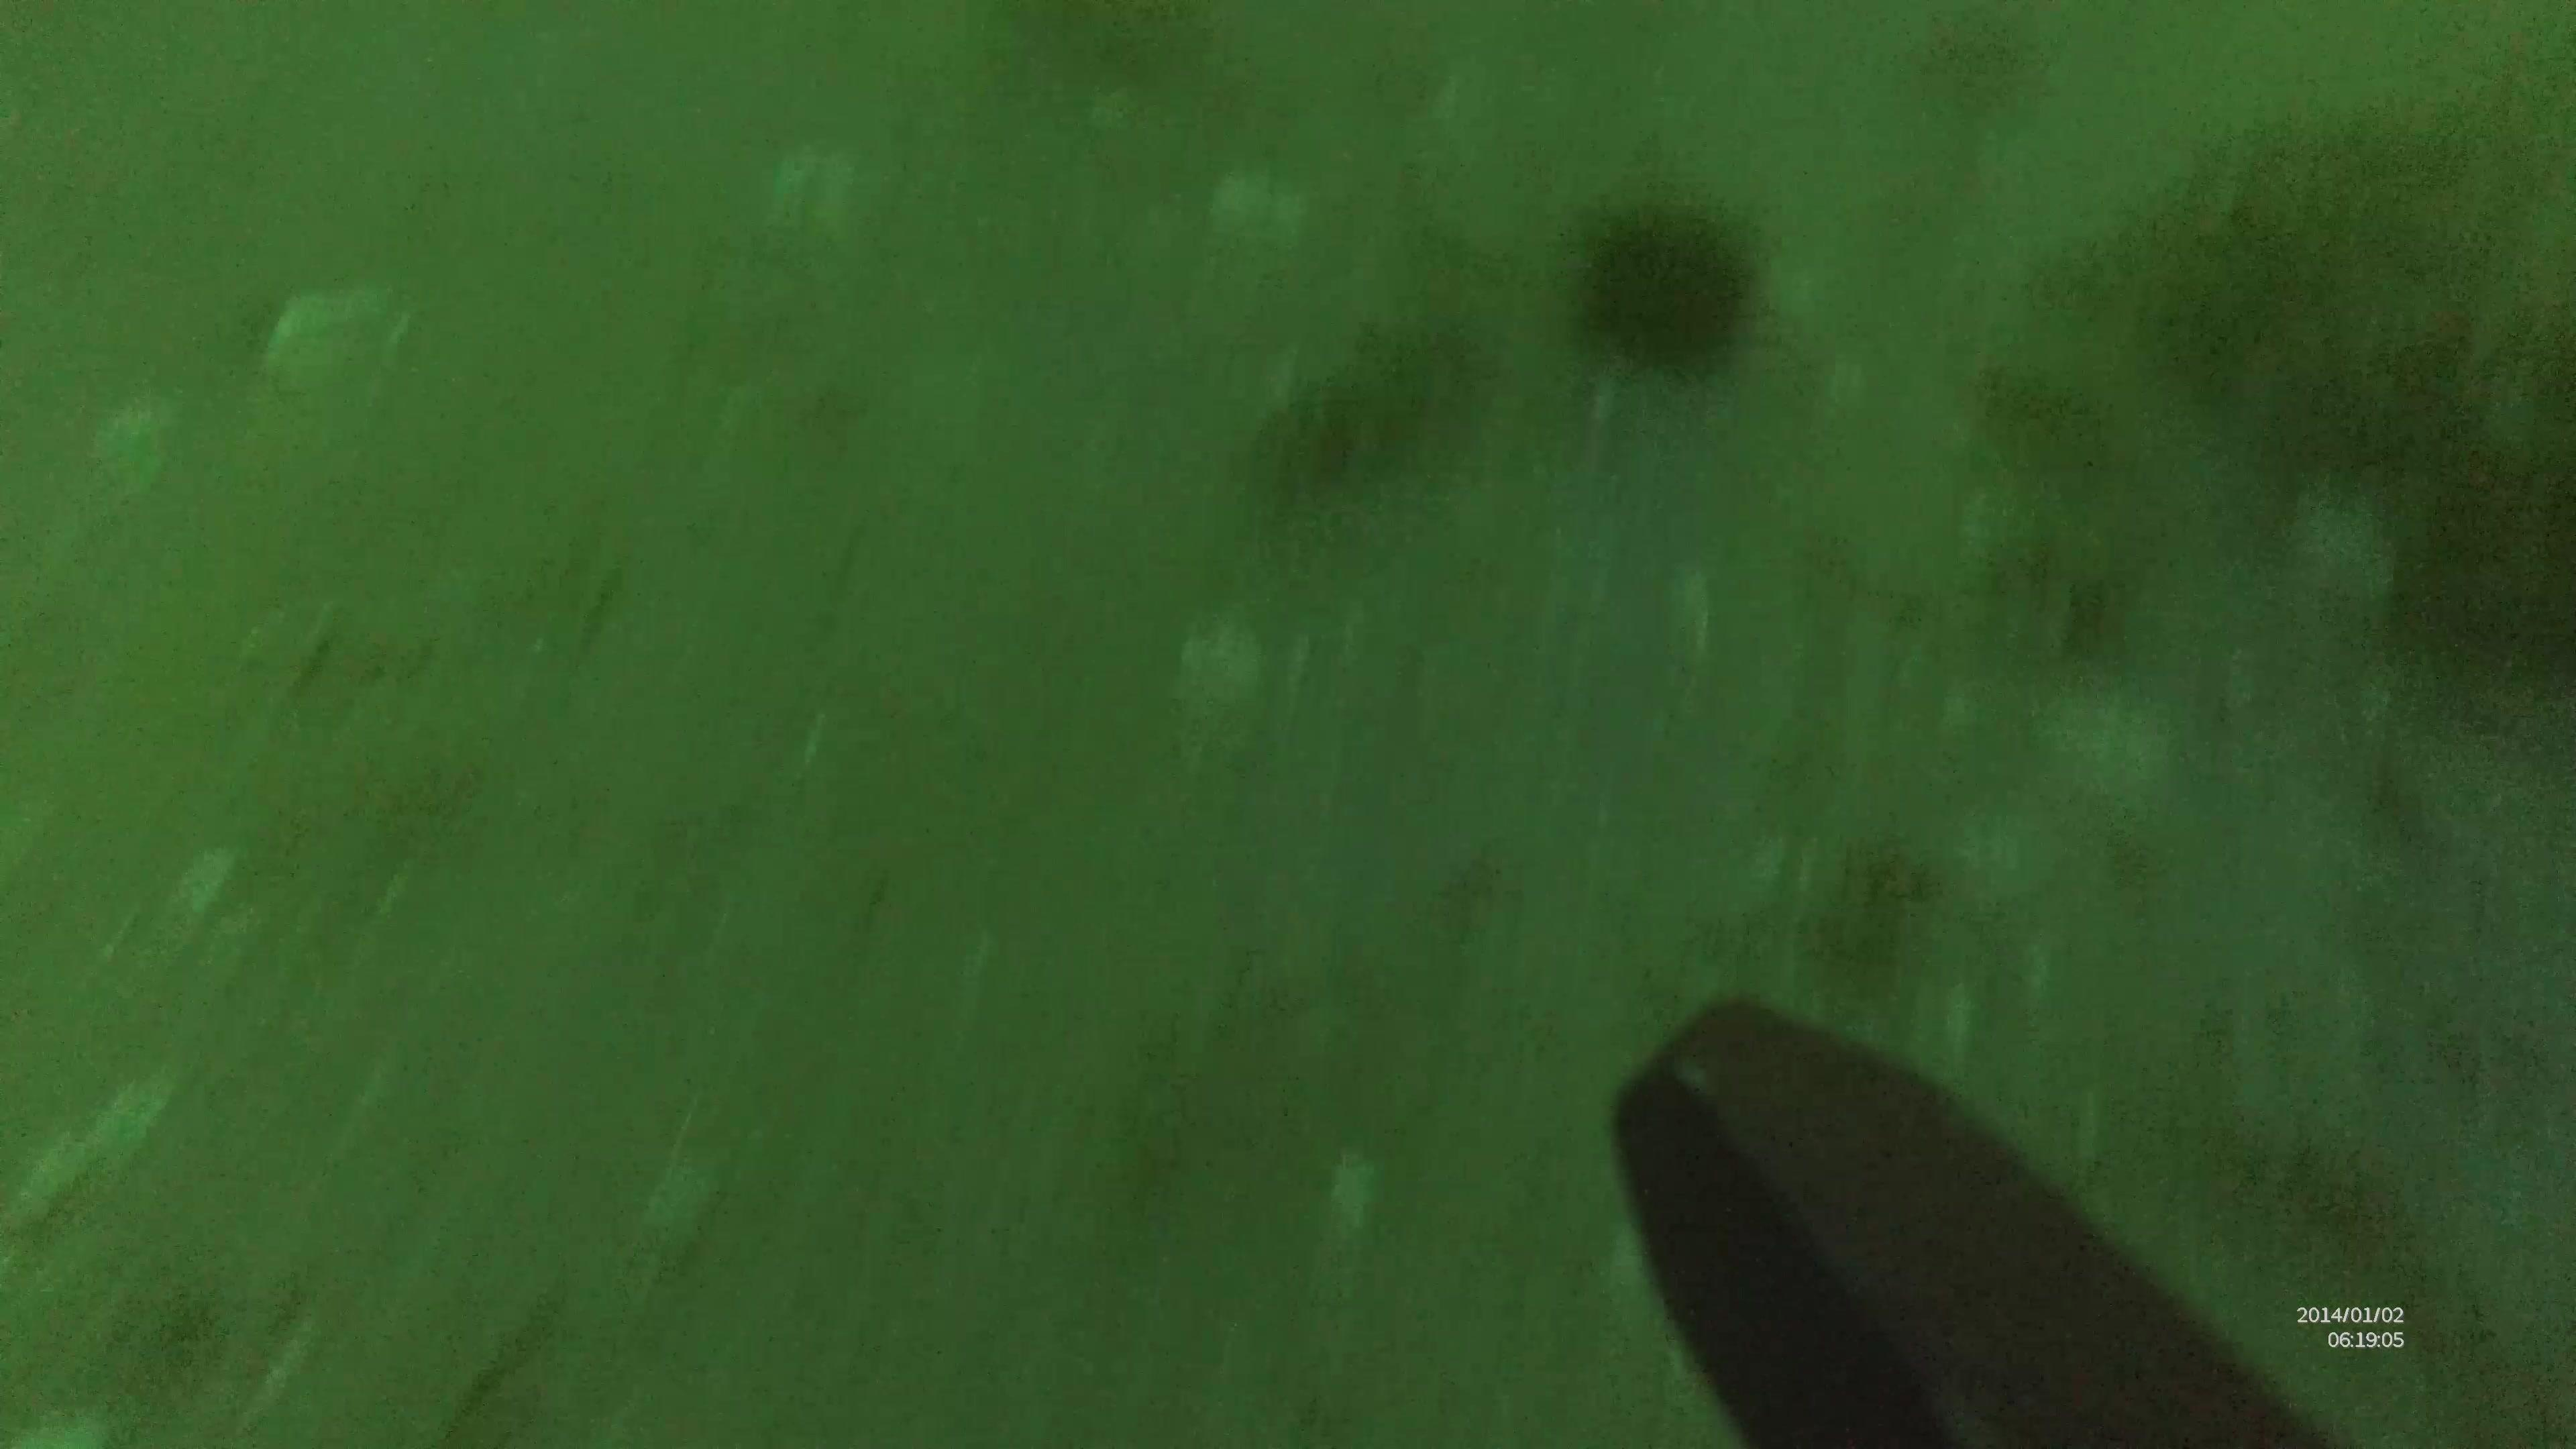echinus: (1571, 195, 1755, 373)
